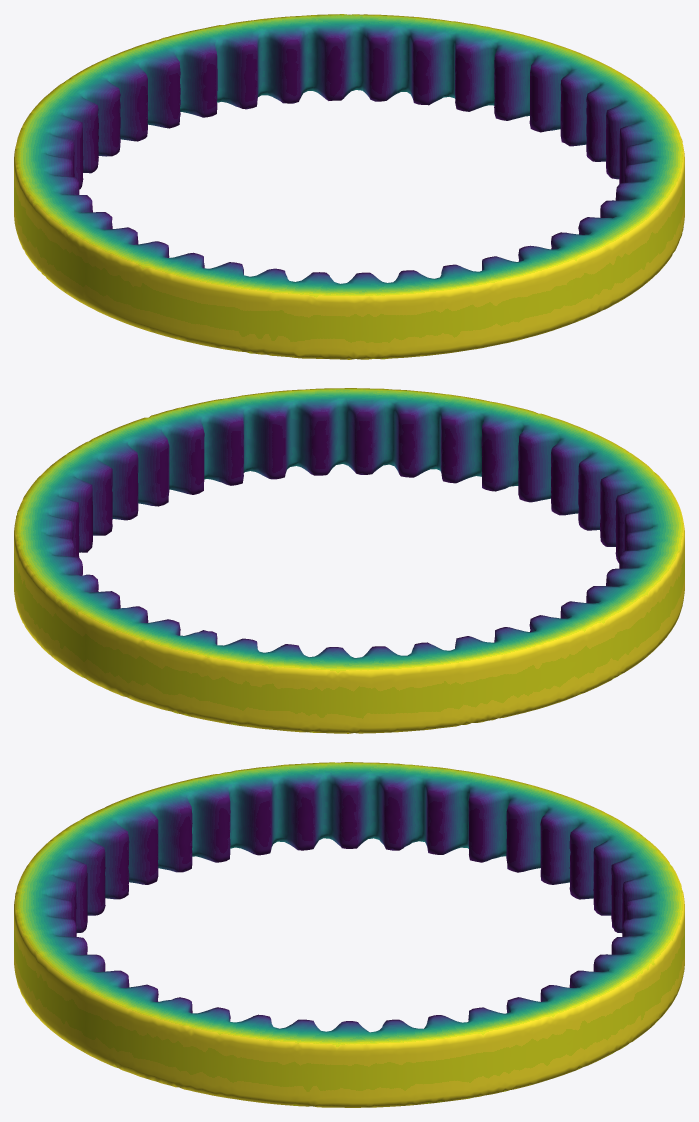
File: spur_gear_m2_N40_inner.obj
3 renders of one model, top to bottom at view 1: azimuth 30°, elevation 25°; view 2: azimuth 150°, elevation 25°; view 3: azimuth 270°, elevation 25°, orthographic.
Bounding box in the file's own units: 4.7 × 0.5008 × 4.7.
